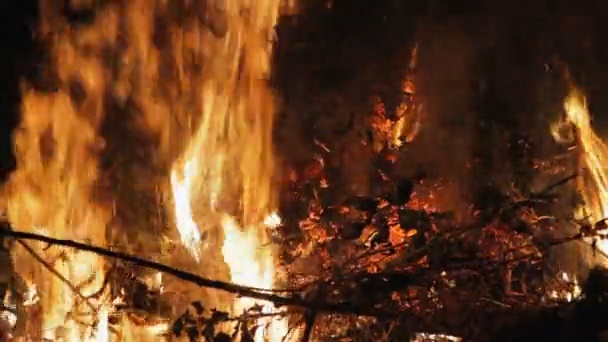fire: (1, 1, 291, 339), (564, 95, 608, 252), (390, 119, 402, 143)
